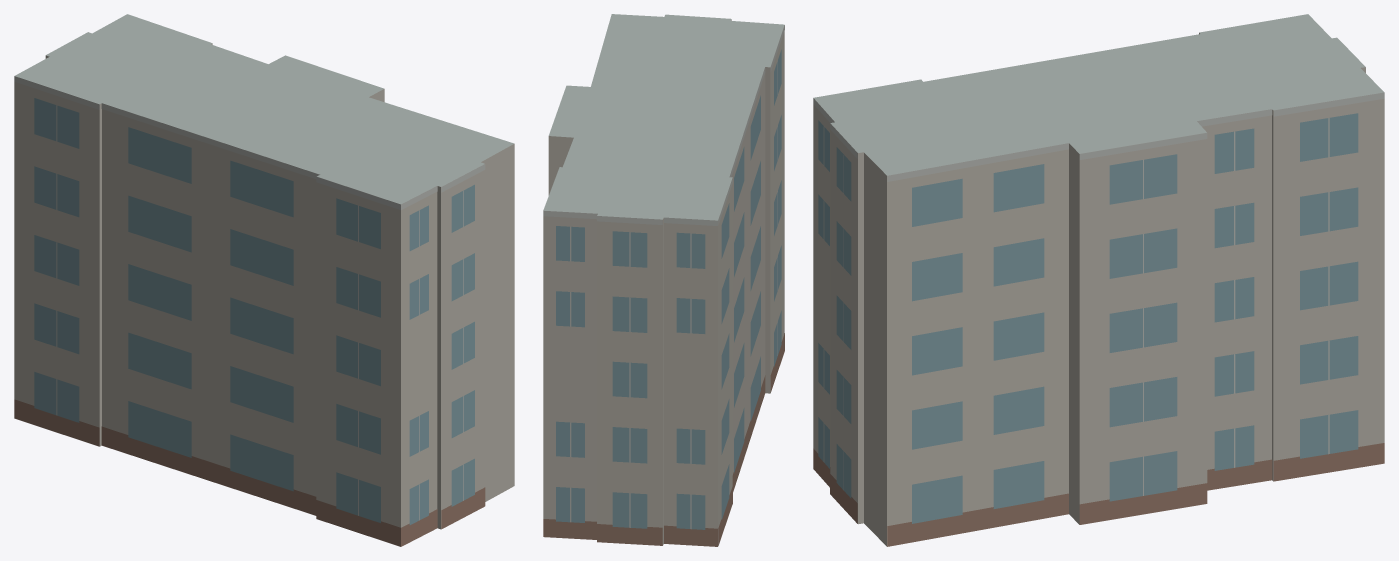
File: survey-upis-32831477.glb
3 renders of one model, left to right at view 1: azimuth 30°, elevation 25°; view 2: azimuth 150°, elevation 25°; view 3: azimuth 270°, elevation 25°, orthographic. The views are drawn at different scales.
Parts seen in each view (by area): view 1: survey-upis-32831477.tmp; view 2: survey-upis-32831477.tmp; view 3: survey-upis-32831477.tmp.
Part boxes in pixels (x1=…): survey-upis-32831477.tmp: x1=14, y1=14, x2=514, y2=546; survey-upis-32831477.tmp: x1=543, y1=14, x2=784, y2=546; survey-upis-32831477.tmp: x1=813, y1=14, x2=1384, y2=546.
Size of the model in its own units: 13.52 by 14.45 by 20.17.
